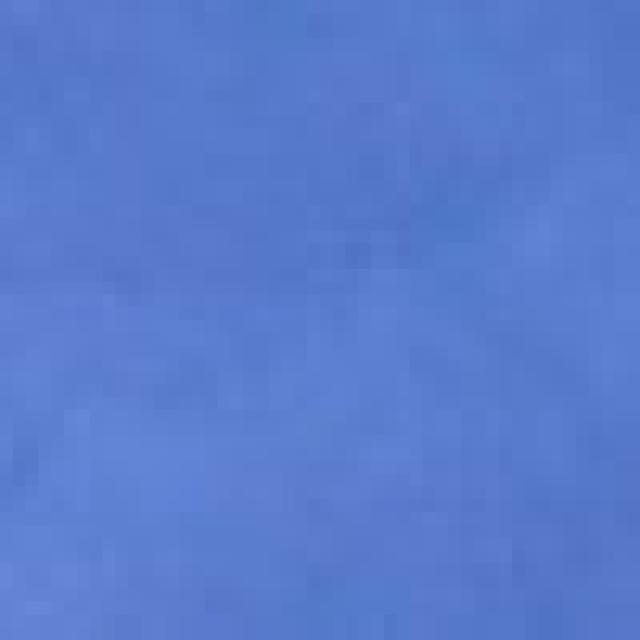no_fire: (21, 10, 638, 610)
